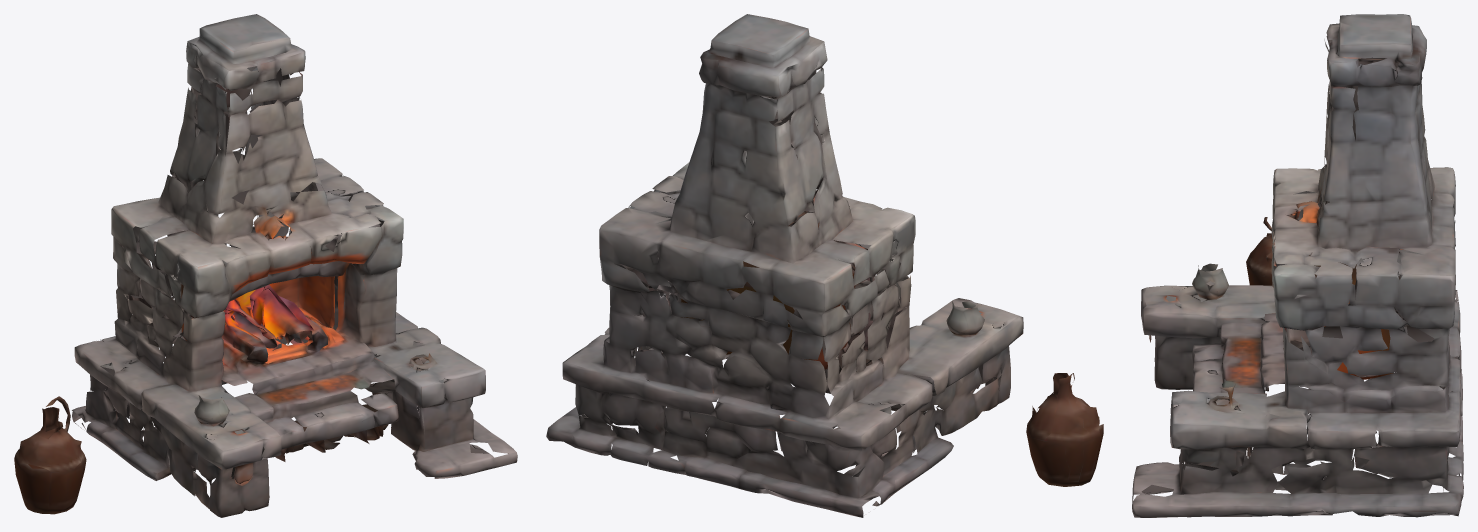
Rendered from prop_forge.glb.
The picture shows the model from 3 angles, left to right: view 1: azimuth 30°, elevation 25°; view 2: azimuth 150°, elevation 25°; view 3: azimuth 270°, elevation 25°; orthographic projection. The views are drawn at different scales.
Parts seen in each view (by area): view 1: world; view 2: world; view 3: world.
Part boxes in pixels (box(x1,y1,x2,y2)): world: box(14, 14, 517, 517); world: box(546, 14, 1103, 517); world: box(1132, 14, 1463, 517).
Size of the model in its own units: 0.9964 by 0.8612 by 0.6331.
Materials: 1 (1 with a texture image).
